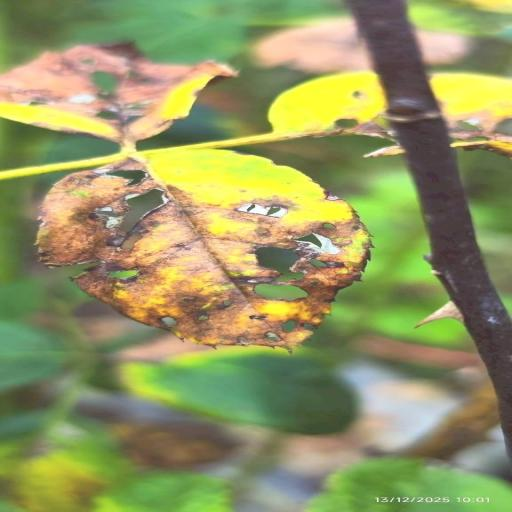thrip: (37, 150, 371, 349), (0, 44, 234, 148), (268, 71, 385, 133), (430, 73, 511, 136)
